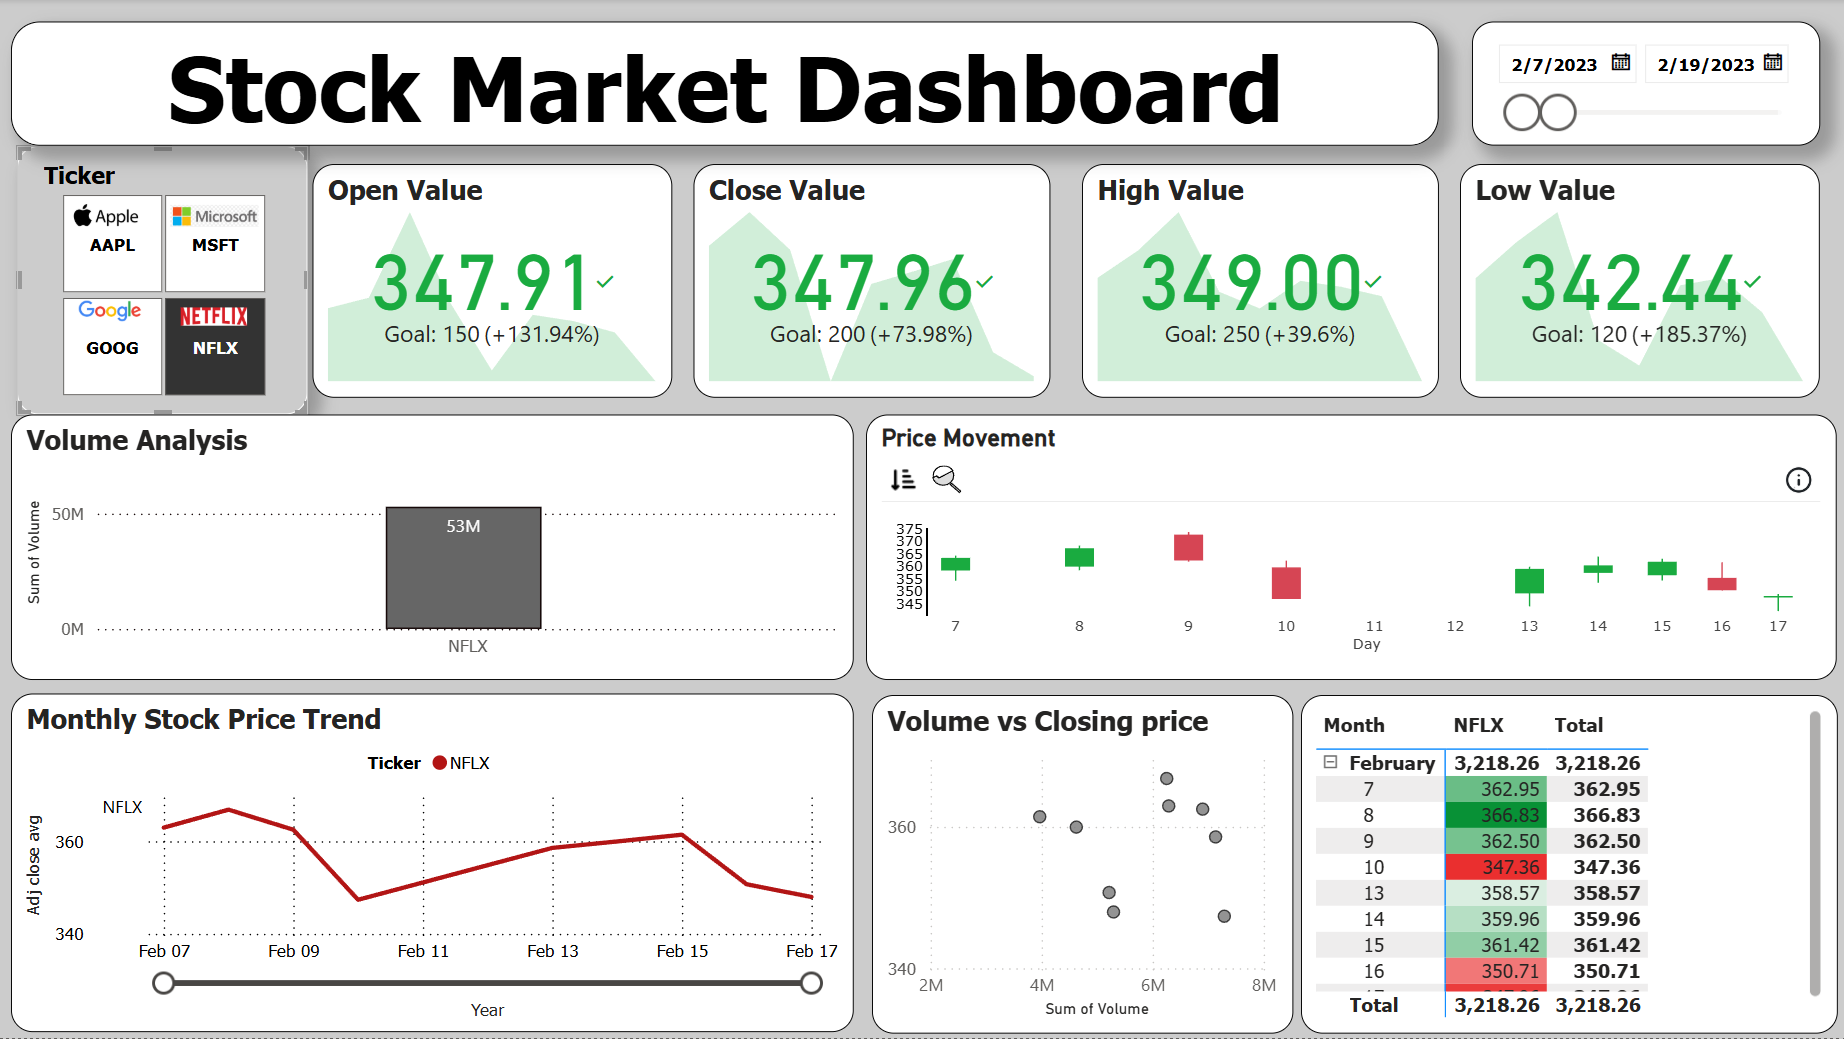

Layout of this report page (visuals, bound fields, positions):
{"tool":"powerbi","page":{"name":"Page 1","canvas":[1280,720],"ordinal":0},"visuals":[{"type":"lineChart","title":"Monthly Stock Price Trend ","fields":{"Category":["stocks (1).Date.Variation.Date Hierarchy.Year","stocks (1).Date.Variation.Date Hierarchy.Month","stocks (1).Date.Variation.Date Hierarchy.Day"],"Series":["stocks (1).Ticker"],"Y":["Avg(stocks (1).Adj Close)"]},"box":[10.4,481.3,584.2,234.9],"z":0},{"type":"slicer","fields":{"Values":["stocks (1).Ticker"]},"box":[14.6,101.9,201.7,186.1],"z":1000},{"type":"candlestick95C27C147643B5E840B1D29AC39783F7","title":"Price Movement","fields":{"col_1":["Sum(stocks (1).Open)"],"col_2":["Sum(stocks (1).High)"],"col_3":["Sum(stocks (1).Low)"],"col_4":["Sum(stocks (1).Close)"],"col_0":["stocks (1).Date.Variation.Date Hierarchy.Day"]},"box":[602.9,287.9,672.5,184],"z":2000},{"type":"kpi","title":"Open Value","fields":{"TrendLine":["stocks (1).Date"],"Goal":["stocks (1).Target Value"],"Indicator":["Avg(stocks (1).Open)"]},"box":[219.3,114.3,249.5,162.2],"z":3000},{"type":"clusteredColumnChart","title":"Volume Analysis","fields":{"Category":["stocks (1).Ticker"],"Y":["Sum(stocks (1).Volume)"]},"box":[10.4,287.9,584.2,184],"z":4000},{"type":"slicer","fields":{"Values":["stocks (1).Date"]},"box":[1022.8,15.6,241.2,86.3],"z":5000},{"type":"kpi","title":"Close Value","fields":{"TrendLine":["stocks (1).Date"],"Goal":["stocks (1).Fixed Target Close"],"Indicator":["Avg(stocks (1).Close)"]},"box":[483.4,114.3,247.4,162.2],"z":6000},{"type":"kpi","title":"High Value","fields":{"TrendLine":["stocks (1).Date"],"Goal":["stocks (1).Fixed Target High"],"Indicator":["Avg(stocks (1).High)"]},"box":[752.6,114.3,247.4,162.2],"z":7000},{"type":"kpi","title":"Low Value","fields":{"TrendLine":["stocks (1).Date"],"Goal":["stocks (1).Fixed Target Low"],"Indicator":["Avg(stocks (1).Low)"]},"box":[1014.5,114.3,249.5,162.2],"z":8000},{"type":"image","box":[115.4,132,71.7,36.4],"z":9000},{"type":"image","box":[41.6,132,69.6,35.3],"z":10000},{"type":"image","box":[35.3,203.7,87.3,24.9],"z":11000},{"type":"image","box":[122.7,203.7,56.1,32.2],"z":12000},{"type":"textbox","title":"Stock Market Dashboard","box":[10.4,15.6,989.6,86.3],"z":13000},{"type":"scatterChart","title":"Volume vs Closing price","fields":{"X":["Sum(stocks (1).Volume)"],"Y":["stocks (1).Close"]},"box":[607.1,482.3,292.1,234.9],"z":13001},{"type":"pivotTable","fields":{"Values":["Sum(stocks (1).Close)"],"Columns":["stocks (1).Ticker"],"Rows":["stocks (1).Date.Variation.Date Hierarchy.Month","stocks (1).Date.Variation.Date Hierarchy.Day"]},"box":[904.3,482.3,372.1,234.9],"z":13002}]}

Visuals, with their boxes in screenshot pixels (x1, y1, x2, y2), scaled from the page's 1280x720 canvas onto the 1844x1039 screenshot:
"Monthly Stock Price Trend " lineChart: <box>15,695,857,1034</box>
slicer - stocks (1).Ticker: <box>21,147,312,416</box>
"Price Movement" candlestick95C27C147643B5E840B1D29AC39783F7: <box>869,415,1837,681</box>
"Open Value" kpi: <box>316,165,675,399</box>
"Volume Analysis" clusteredColumnChart: <box>15,415,857,681</box>
slicer - stocks (1).Date: <box>1473,23,1821,147</box>
"Close Value" kpi: <box>696,165,1053,399</box>
"High Value" kpi: <box>1084,165,1441,399</box>
"Low Value" kpi: <box>1462,165,1821,399</box>
image: <box>166,190,270,243</box>
image: <box>60,190,160,241</box>
image: <box>51,294,177,330</box>
image: <box>177,294,258,340</box>
"Stock Market Dashboard" textbox: <box>15,23,1441,147</box>
"Volume vs Closing price" scatterChart: <box>875,696,1295,1035</box>
pivotTable - Sum(stocks (1).Close) x stocks (1).Ticker: <box>1303,696,1839,1035</box>
